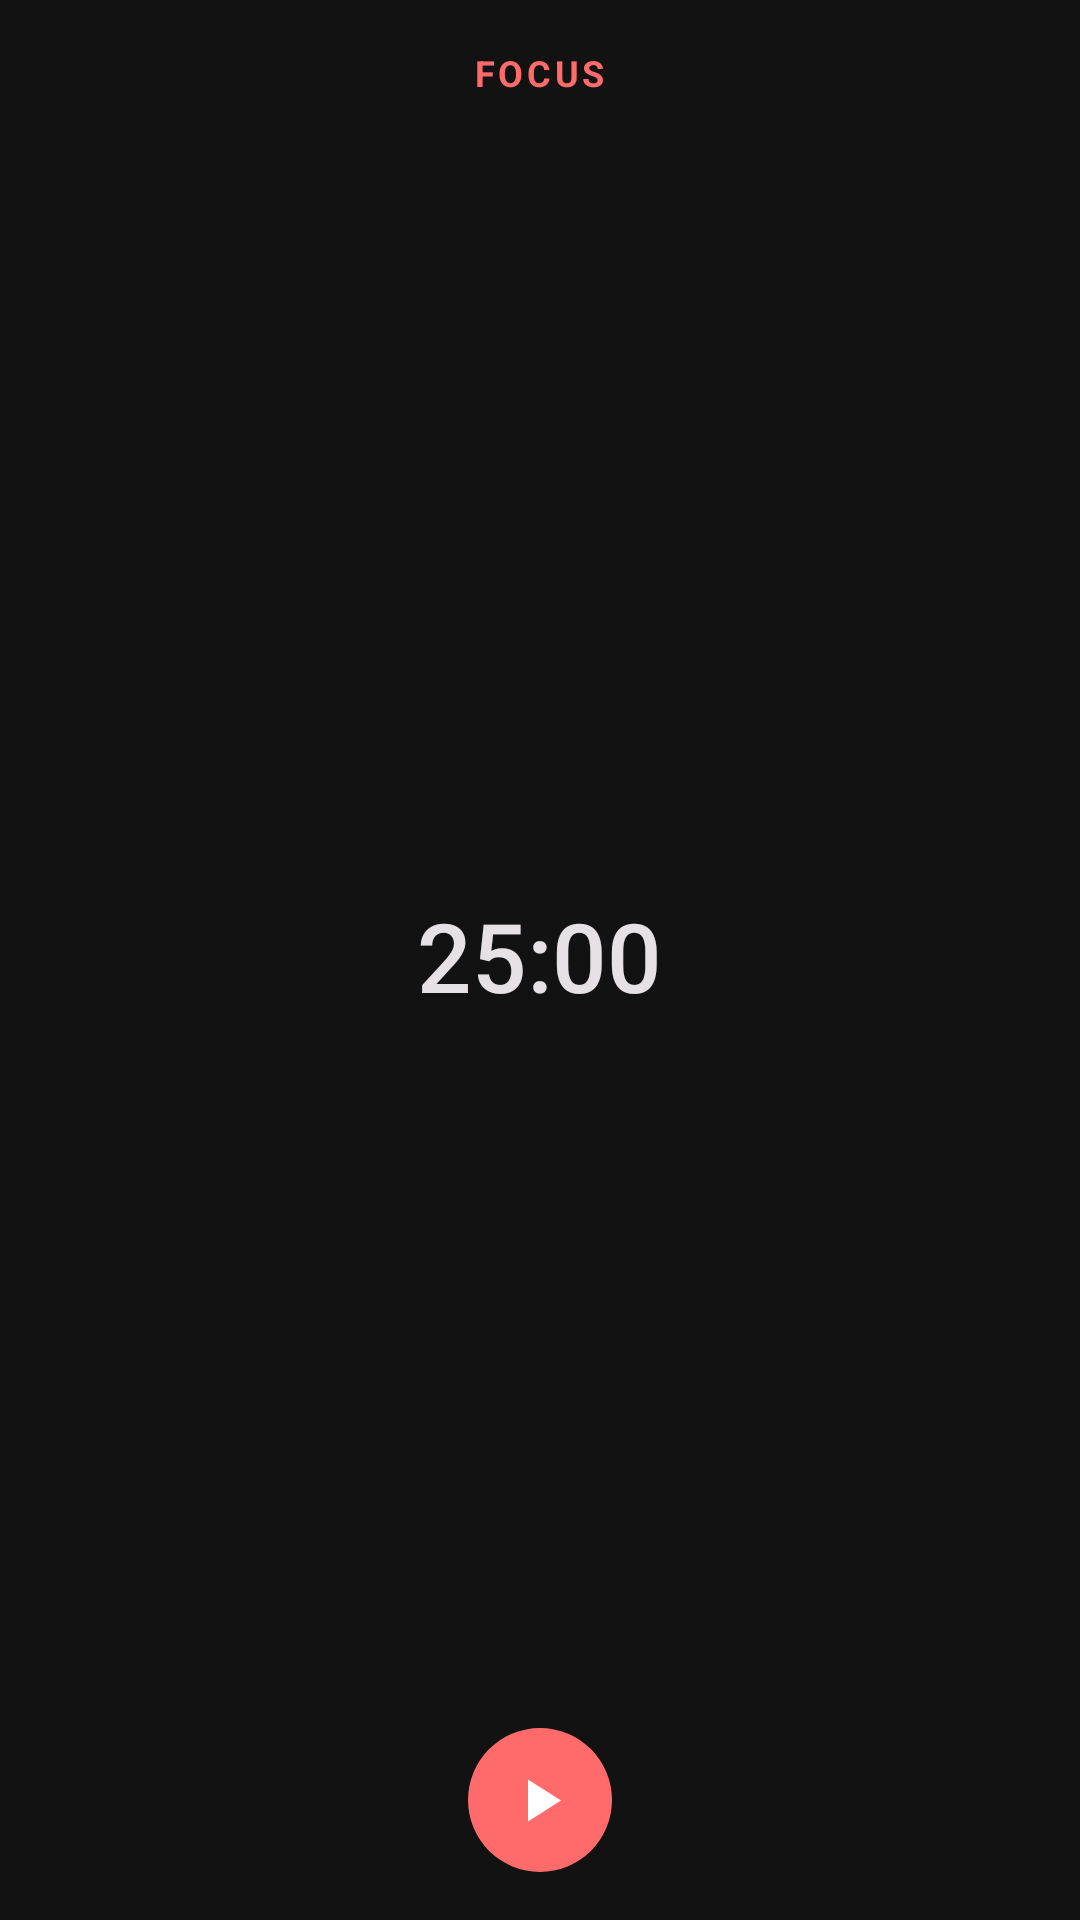

Screen size 1080px×1920px. Icon name, then its center in pixels as (x=x, y=y):
Start/Pause: (x=540, y=1800)
